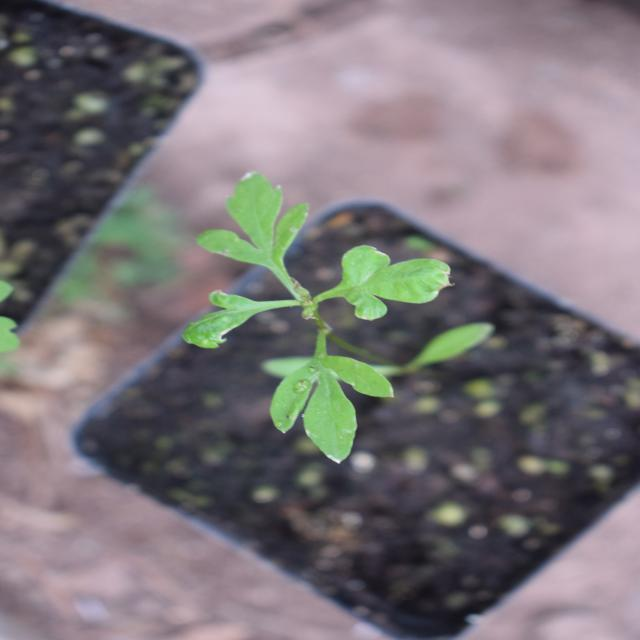Bidens pilosa: (158, 151, 454, 473)
